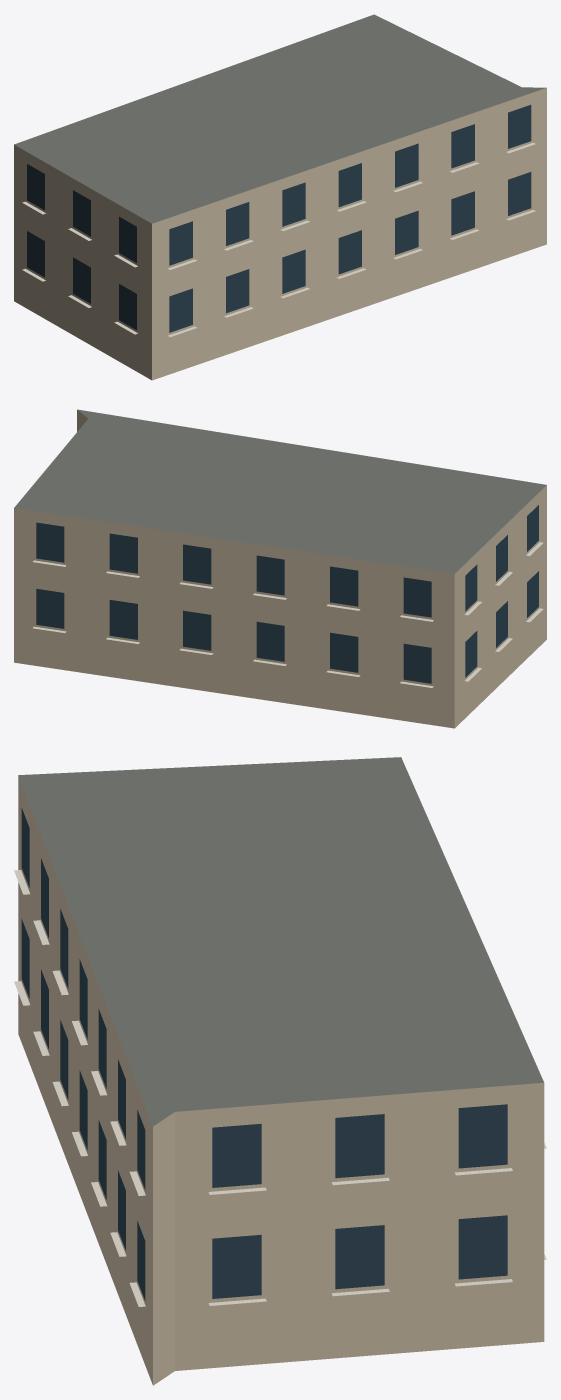
3 views of the same model, one above another, from view 1: azimuth 30°, elevation 25°; view 2: azimuth 150°, elevation 25°; view 3: azimuth 270°, elevation 25° (orthographic). The views are drawn at different scales.
Visible parts, largest first — view 1: Footprint 0, Inferred window bays, Window sills; view 2: Footprint 0, Inferred window bays, Window sills; view 3: Footprint 0, Inferred window bays, Window sills.
Boxes of the visible parts, bbox=[...] form: Footprint 0: bbox=[14, 14, 546, 380]; Inferred window bays: bbox=[27, 105, 531, 332]; Window sills: bbox=[22, 142, 535, 337]; Footprint 0: bbox=[14, 409, 546, 728]; Inferred window bays: bbox=[36, 505, 538, 683]; Window sills: bbox=[33, 542, 543, 687]; Footprint 0: bbox=[18, 757, 544, 1385]; Inferred window bays: bbox=[21, 808, 507, 1300]; Window sills: bbox=[14, 870, 546, 1306].
Bounding box in the file's own units: 21.8 × 7.09 × 13.21.
